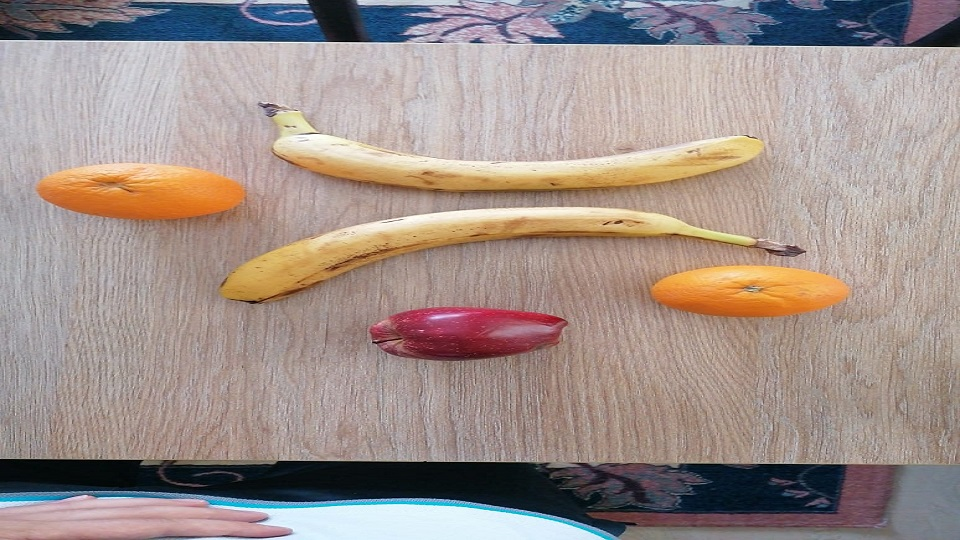elma: (370, 306, 568, 361)
muz: (218, 205, 759, 306), (271, 104, 766, 193)
portakal: (35, 162, 247, 220), (650, 264, 850, 319)
